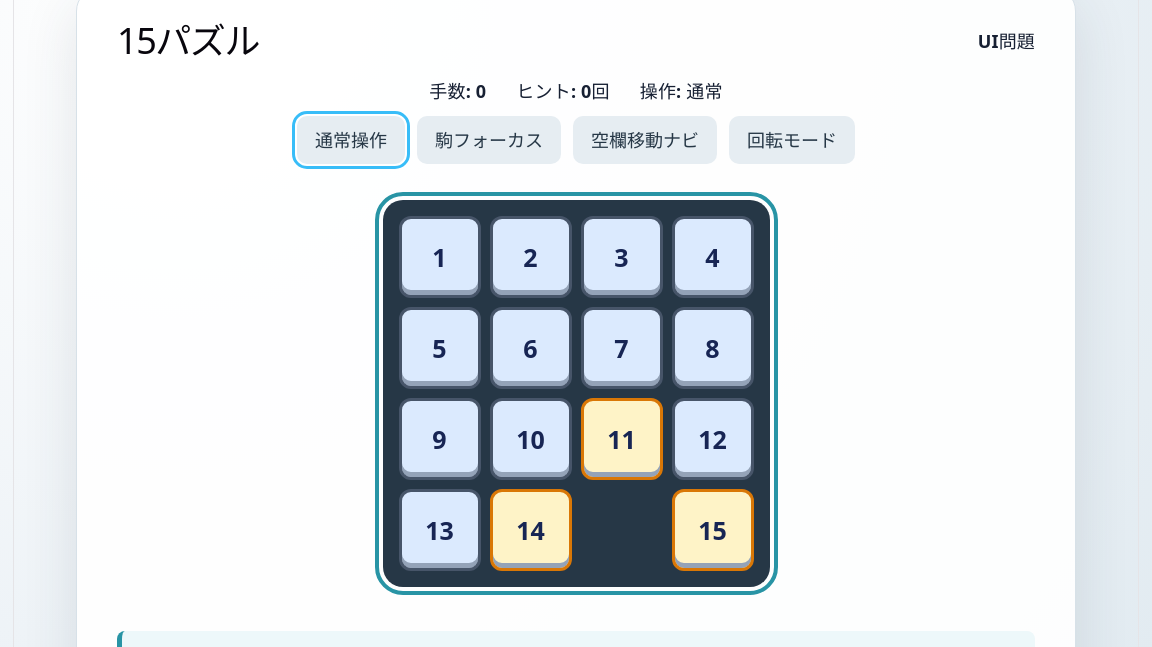
Test: moves a tile and reports completion
Expected: the table named "15パズル盤面" is shown, top-left (382, 200), bottom-right (770, 587)
Click the button named "駒 15" at (712, 530), box top-left (672, 489), bottom-right (754, 571)
(page scrolled)
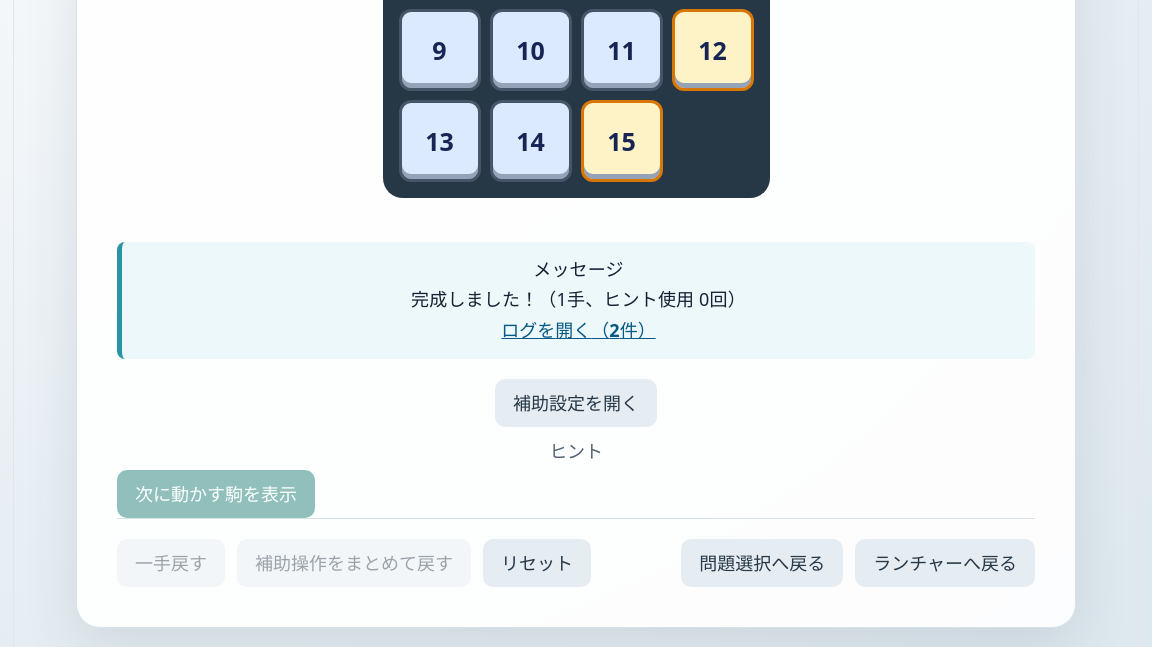
Now the text "完成しました！（1手、ヒント使用 0回）" is shown, box top-left (411, 287), bottom-right (746, 311)
